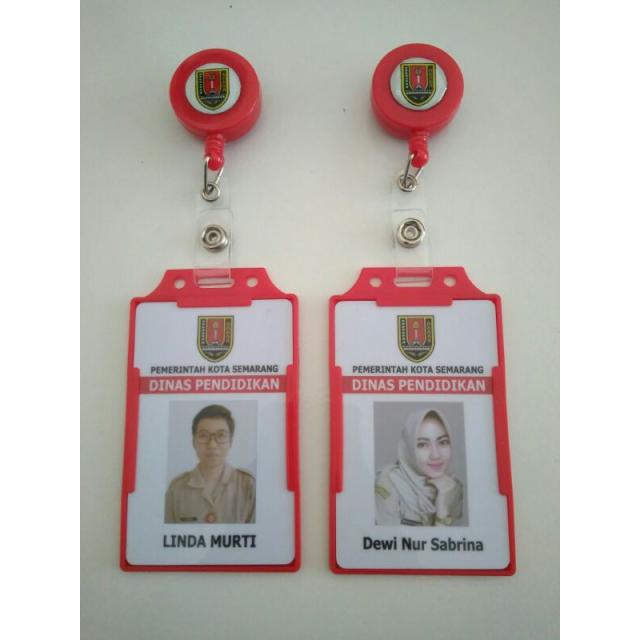ID_card: (319, 266, 508, 578), (112, 265, 294, 571)
